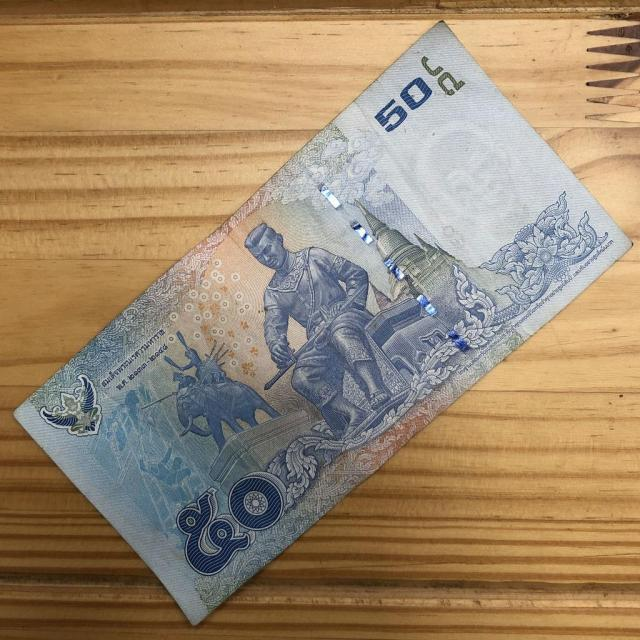THAI50: (13, 21, 633, 629)
